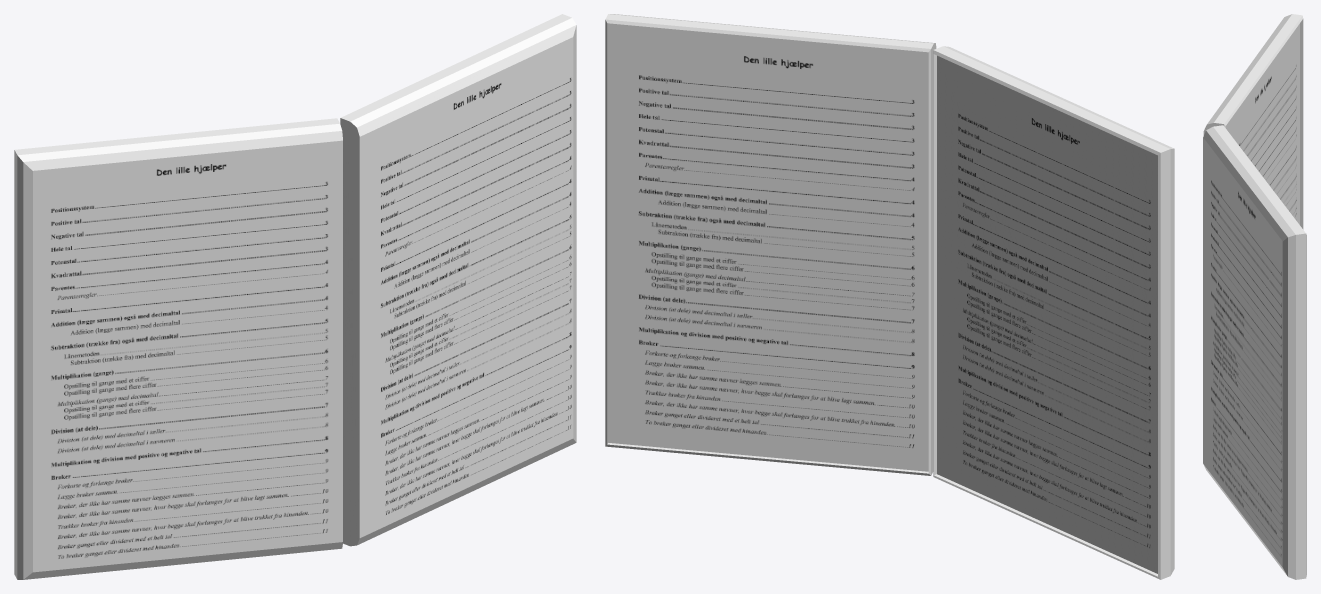
The model's file is den lille hjelper2.fbx.
The picture shows the model from 3 angles, left to right: view 1: azimuth 30°, elevation 25°; view 2: azimuth 150°, elevation 25°; view 3: azimuth 270°, elevation 25°; orthographic projection. The views are drawn at different scales.
Parts seen in each view (by area): view 1: Plane; view 2: Plane; view 3: Plane.
Boxes of the visible parts, x1,y1,x2,y2 form: Plane: (14, 14, 576, 579); Plane: (605, 14, 1174, 579); Plane: (1203, 14, 1306, 579).
Size of the model in its own units: 408 by 297 by 80.86.
